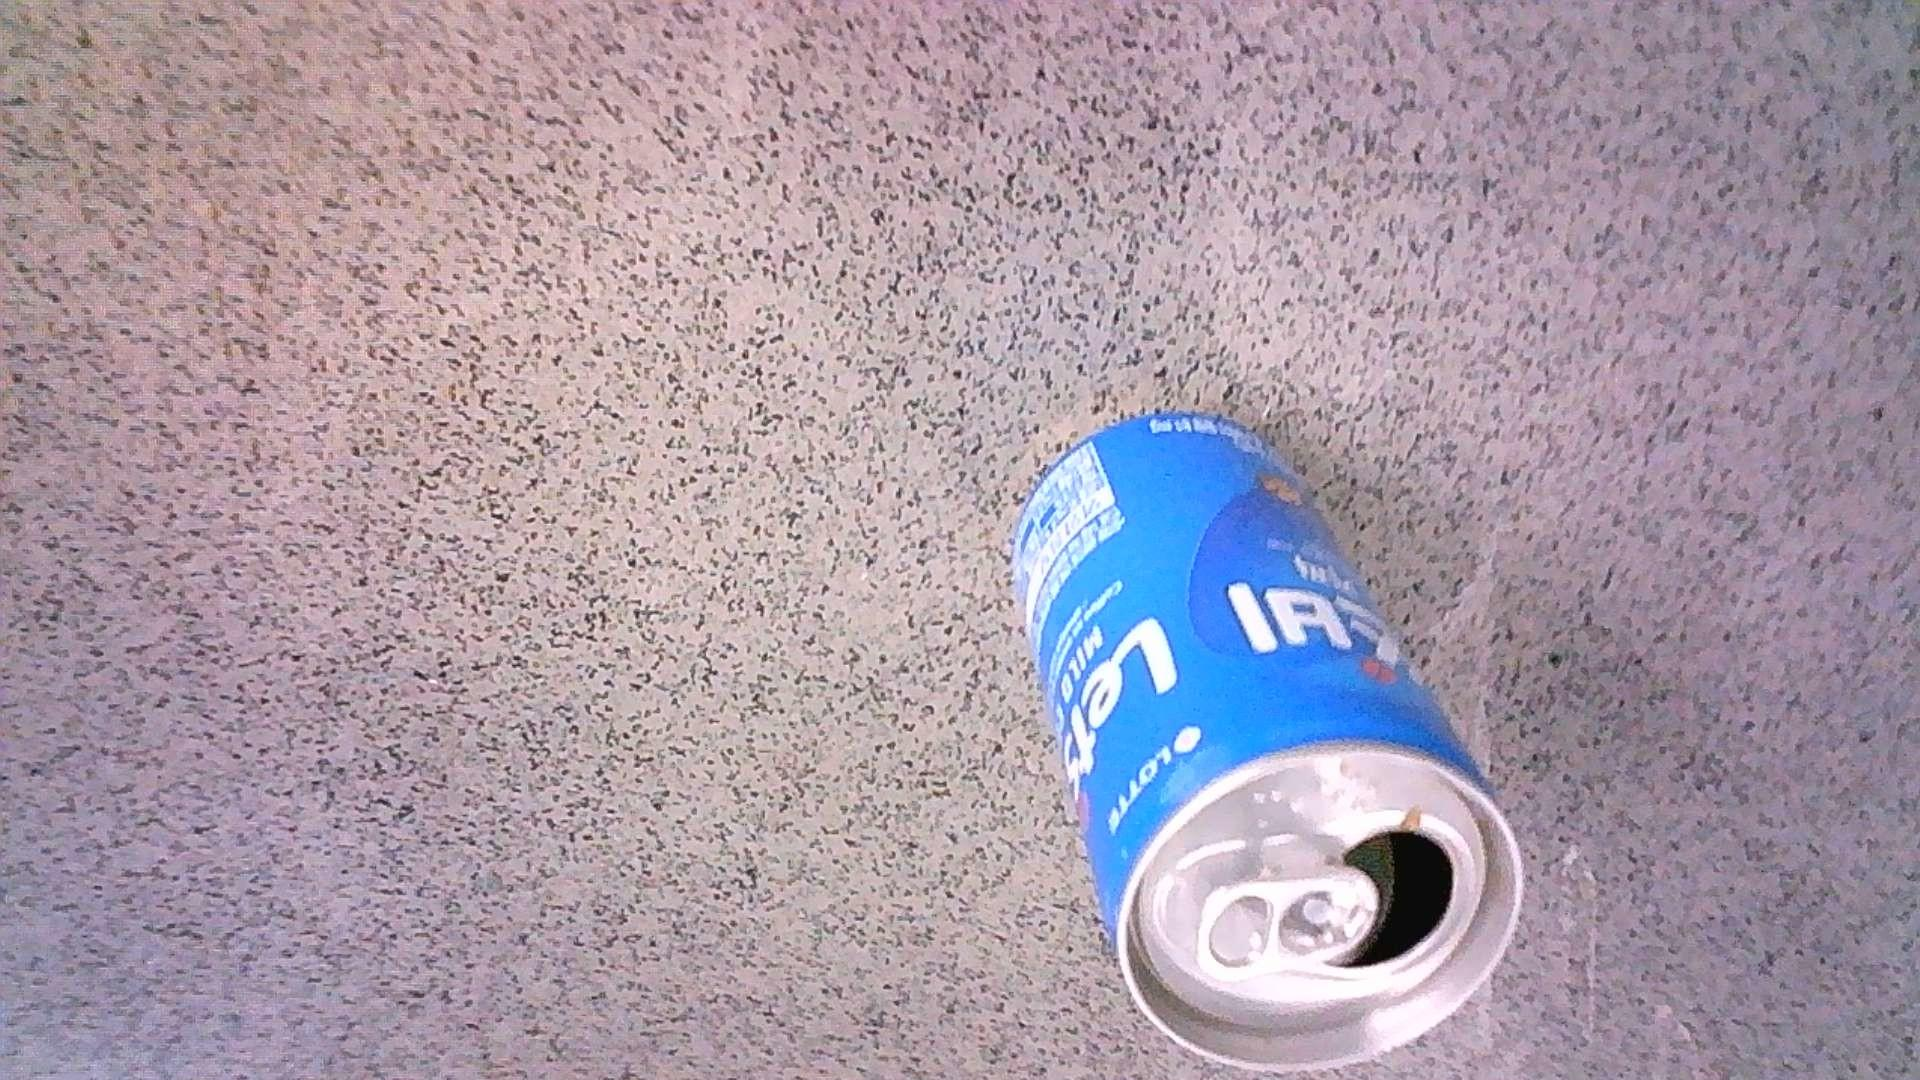letsbe: (1013, 411, 1524, 1069)
